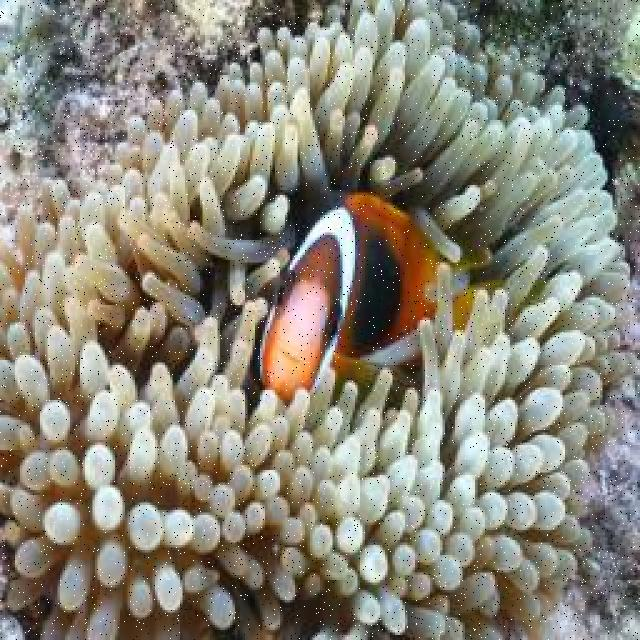fish: (259, 189, 505, 402)
reefs: (0, 1, 638, 638)
